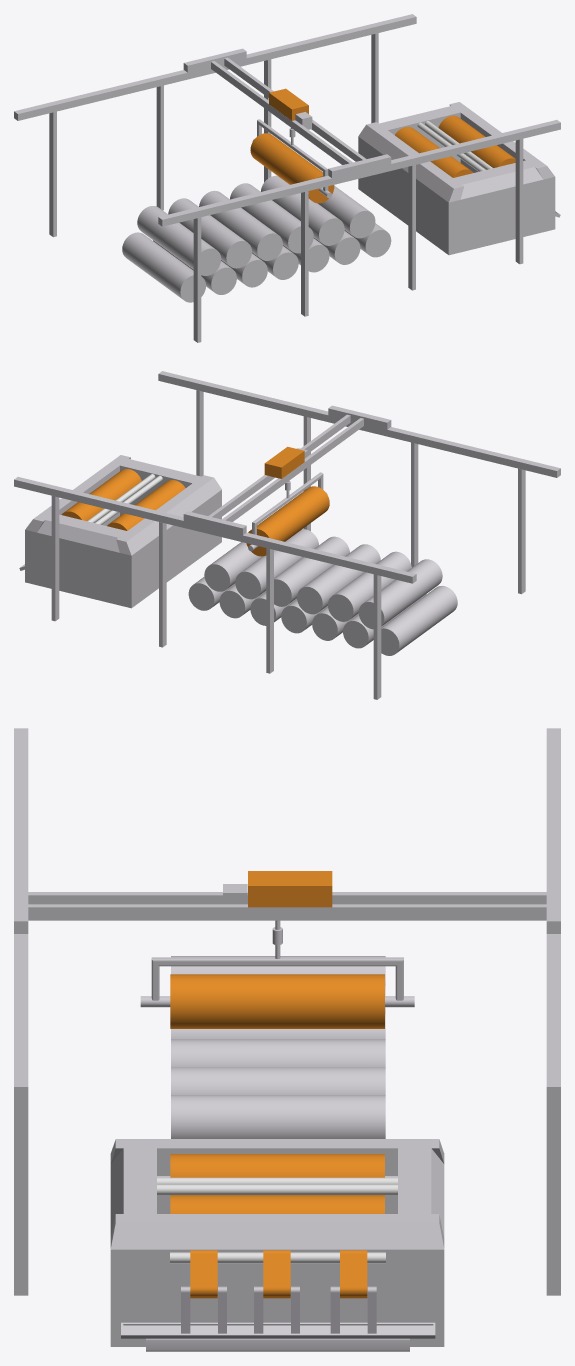
File: longmenjia.glb
3 views of the same model, one above another, from view 1: azimuth 30°, elevation 25°; view 2: azimuth 150°, elevation 25°; view 3: azimuth 270°, elevation 25° (orthographic). The views are drawn at different scales.
Parts seen in each view (by area): view 1: longmenjia_jiat, longmenjia_hq, longmenjia_sbzj1, longmenjia_hwdq, longmenjia_sbzj12, longmenjia_sbzj10, longmenjia_csk, longmenjia_zt3, longmenjia_sbzj11, longmenjia_sbzj7; view 2: longmenjia_jiat, longmenjia_hq, longmenjia_sbzj1, longmenjia_hwdq, longmenjia_sbzj12, longmenjia_sbzj10, longmenjia_csk, longmenjia_zt3, longmenjia_sbzj11, longmenjia_sbzj7; view 3: longmenjia_sbzj1, longmenjia_jiat, longmenjia_hq, longmenjia_hwdq, longmenjia_sbzj10, longmenjia_sbzj5, longmenjia_sbzj2, longmenjia_sbzj12, longmenjia_sbzj6, longmenjia_csk, longmenjia_zt3, longmenjia_sbzj3 (+3 smaller).
Boxes of the visible parts, x1,y1,x2,y2 form: longmenjia_jiat: (14, 14, 560, 342); longmenjia_hq: (122, 175, 391, 302); longmenjia_sbzj1: (358, 102, 555, 255); longmenjia_hwdq: (250, 133, 334, 203); longmenjia_sbzj12: (438, 115, 515, 167); longmenjia_sbzj10: (395, 127, 473, 177); longmenjia_csk: (269, 88, 308, 120); longmenjia_zt3: (257, 119, 328, 191); longmenjia_sbzj11: (417, 122, 485, 171); longmenjia_sbzj7: (425, 121, 492, 169); longmenjia_jiat: (14, 371, 560, 699); longmenjia_hq: (188, 529, 457, 655); longmenjia_sbzj1: (25, 455, 221, 608); longmenjia_hwdq: (246, 486, 329, 556); longmenjia_sbzj12: (61, 469, 141, 521); longmenjia_sbzj10: (107, 480, 185, 530); longmenjia_csk: (264, 446, 304, 478); longmenjia_zt3: (252, 472, 323, 534); longmenjia_sbzj11: (95, 475, 162, 524); longmenjia_sbzj7: (87, 474, 155, 522); longmenjia_sbzj1: (110, 1139, 444, 1346); longmenjia_jiat: (14, 728, 560, 1295); longmenjia_hq: (171, 956, 385, 1138); longmenjia_hwdq: (170, 974, 384, 1028); longmenjia_sbzj10: (170, 1154, 384, 1177); longmenjia_sbzj5: (121, 1322, 435, 1338); longmenjia_sbzj2: (190, 1250, 367, 1298); longmenjia_sbzj12: (170, 1195, 384, 1213); longmenjia_sbzj6: (146, 1338, 409, 1351); longmenjia_csk: (248, 871, 332, 907); longmenjia_zt3: (151, 957, 403, 1000); longmenjia_sbzj3: (181, 1286, 376, 1333).
Size of the model in its own units: 76.03 by 25.03 by 45.29.
